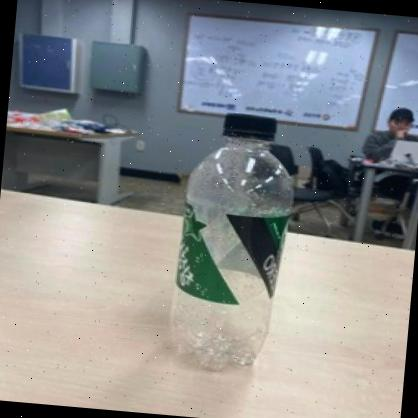bottle: (163, 104, 303, 381)
cap: (216, 107, 284, 144)
label: (166, 199, 296, 308)
